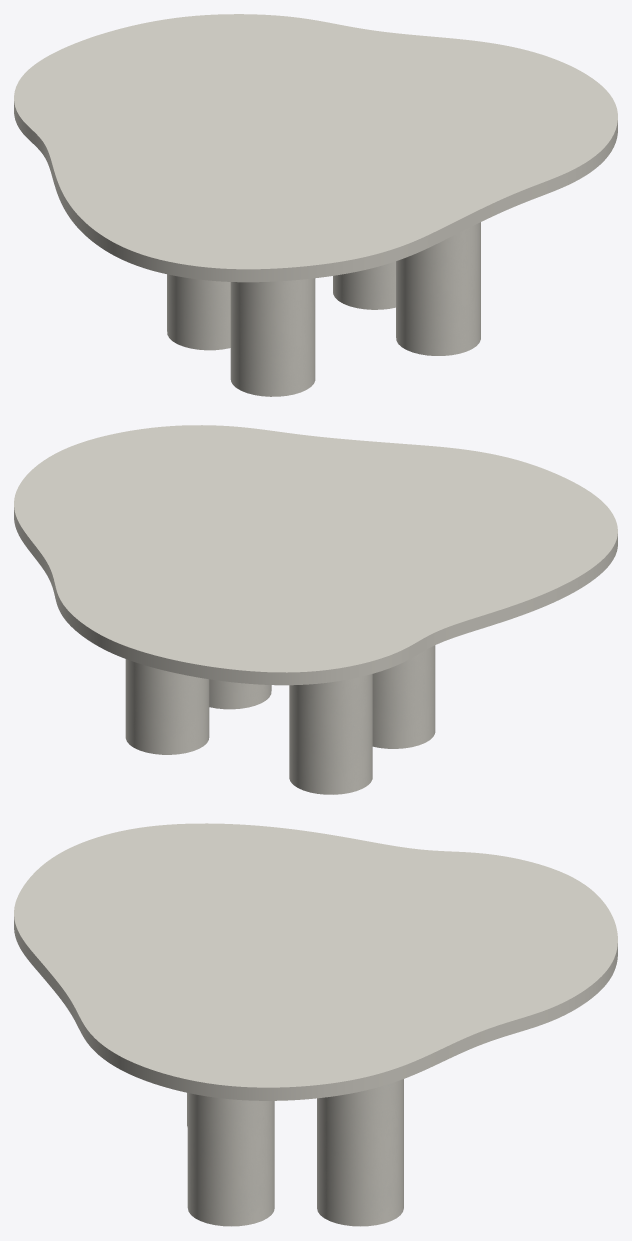
Rendered from pale_topone_standard_grove.glb.
3 views of the same model, one above another, from view 1: azimuth 30°, elevation 25°; view 2: azimuth 150°, elevation 25°; view 3: azimuth 270°, elevation 25° (orthographic). The views are drawn at different scales.
Parts seen in each view (by area): view 1: standard_topone, grove; view 2: standard_topone, grove; view 3: standard_topone, grove.
Boxes of the visible parts, <box> form: standard_topone: <box>14,14,617,282</box>; grove: <box>167,222,480,396</box>; standard_topone: <box>14,425,617,685</box>; grove: <box>125,645,435,794</box>; standard_topone: <box>14,823,617,1100</box>; grove: <box>187,1079,403,1226</box>.
Bounding box in the file's own units: 6.83 × 2.5 × 6.6.
Materials: 1 (1 with a texture image).
